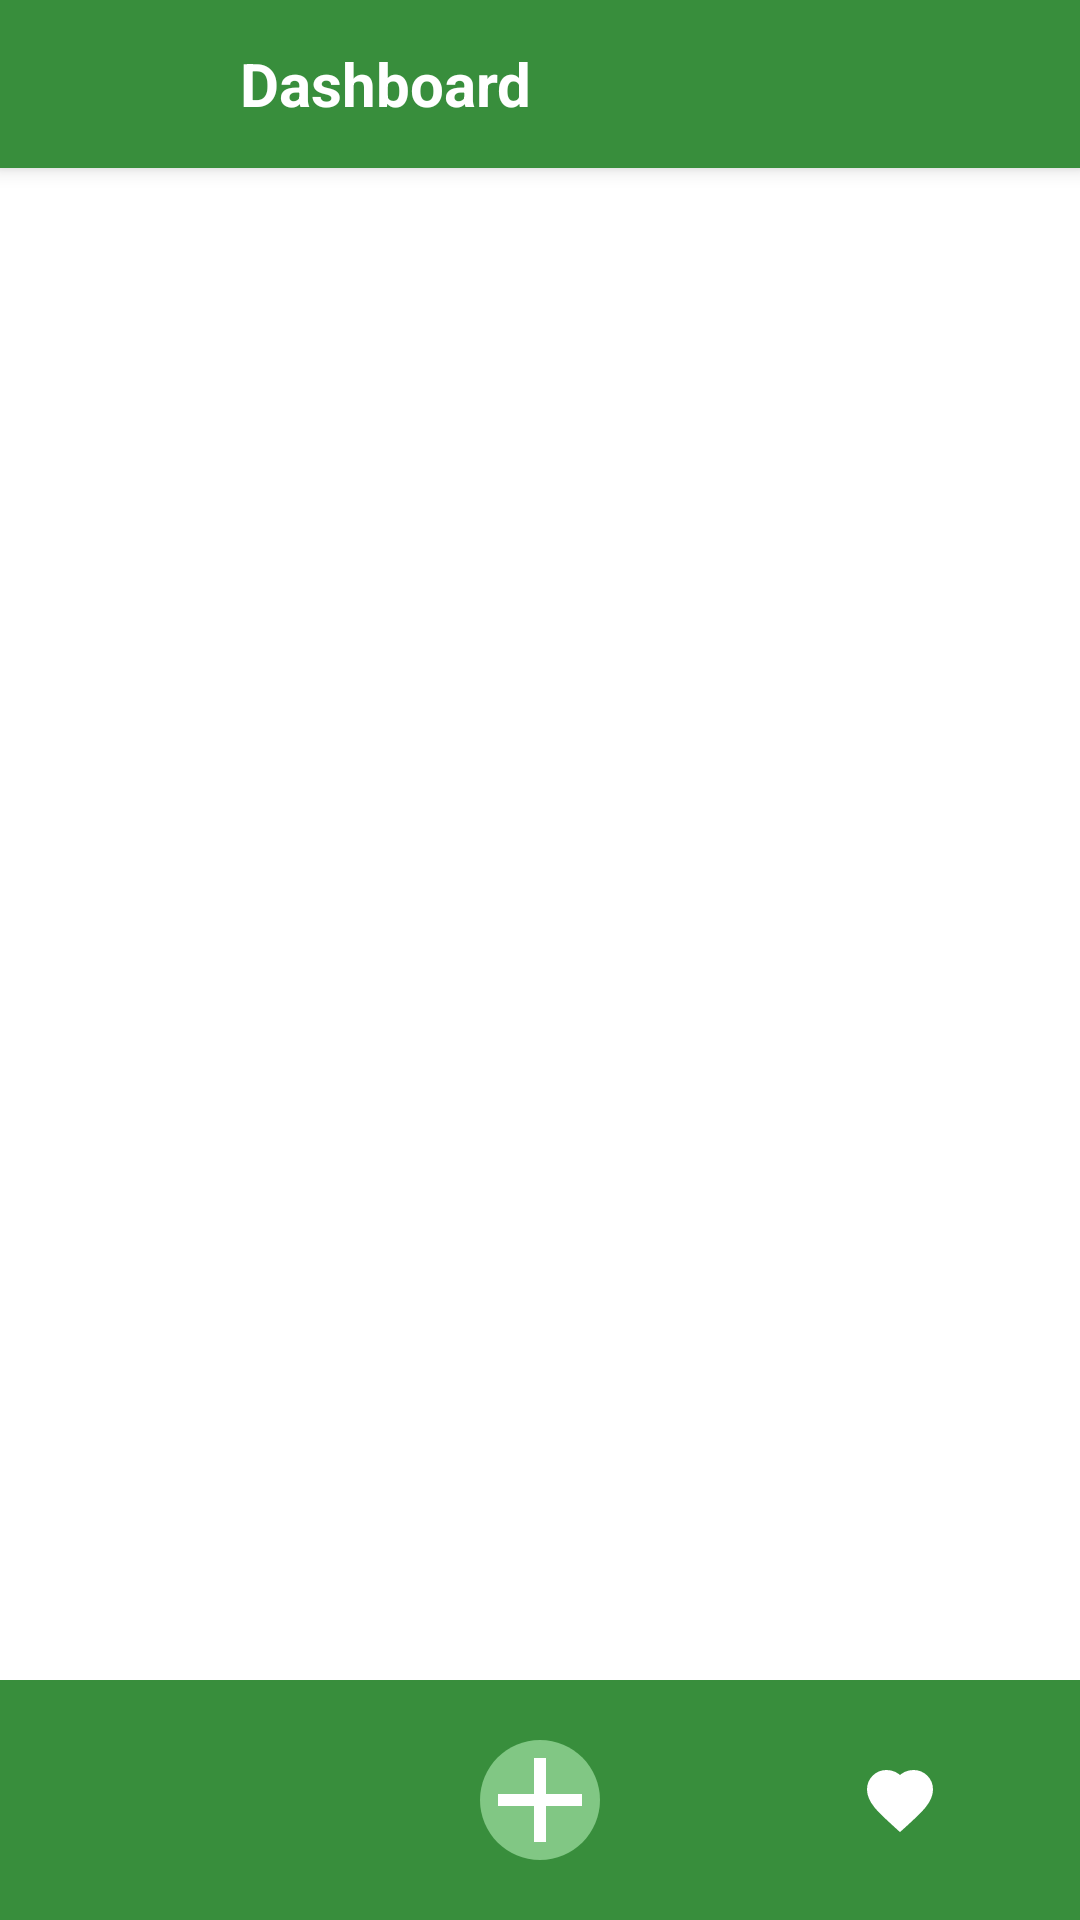

Point at icon controls on the screen. Image size 1080w x 1920h, points as point (x, y).
fav: point (900, 1801)
plus: point (540, 1800)
